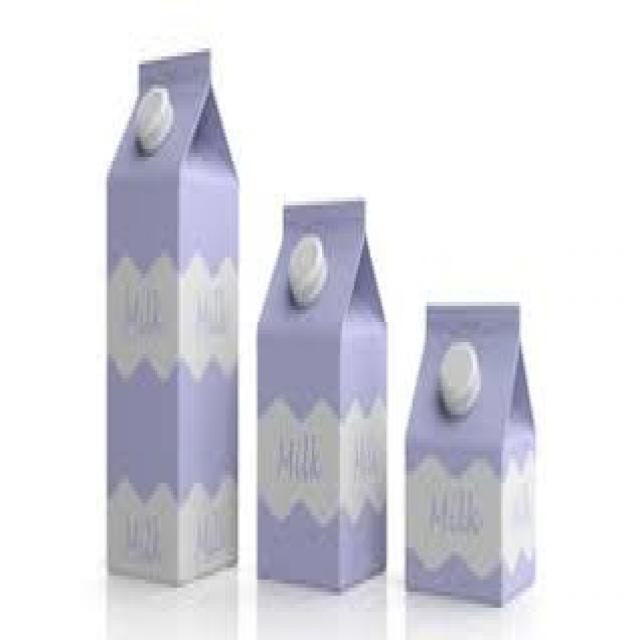non_white_jug: (96, 36, 238, 588), (255, 173, 390, 600), (406, 298, 546, 612)
